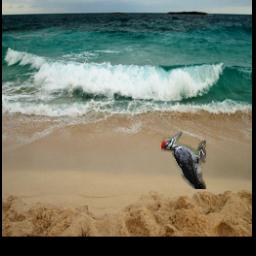Woodpecker: (161, 133, 206, 190)
